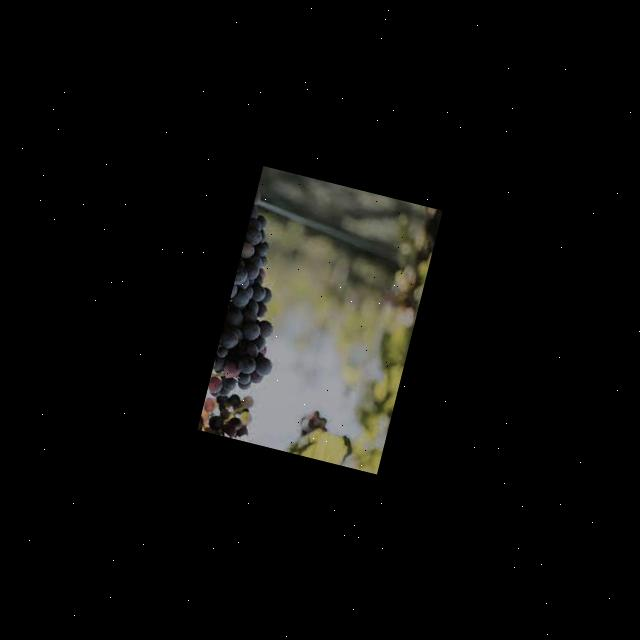grape: (198, 191, 312, 443)
